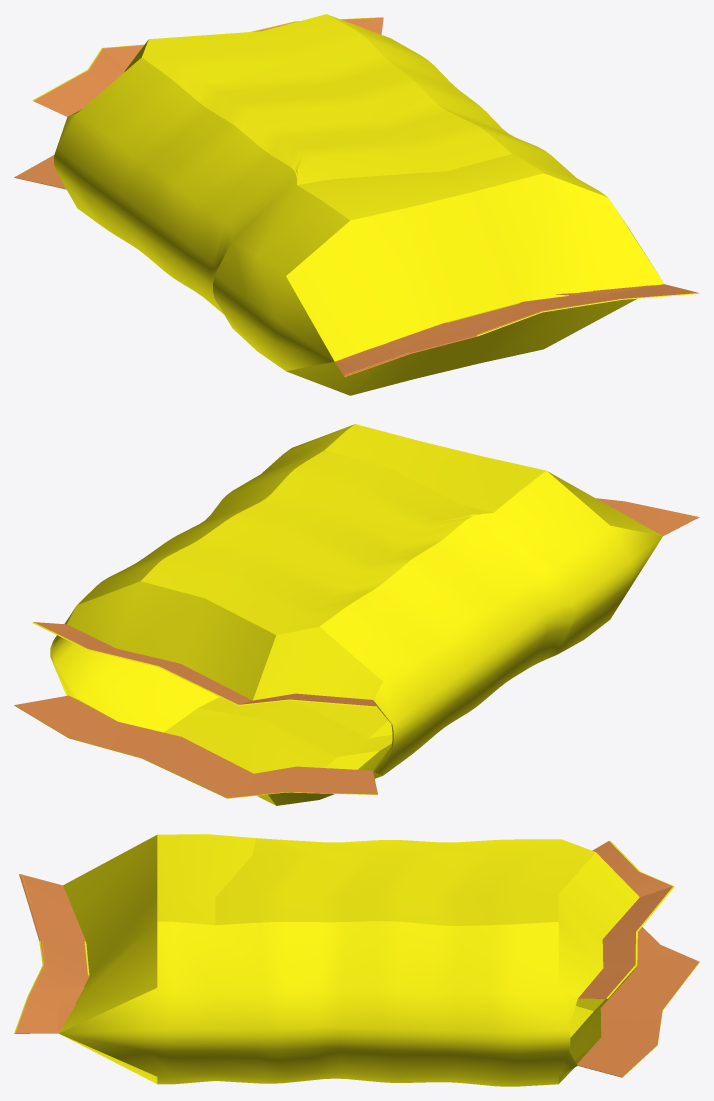
Rendered from  Saco de Salgadinho Aberto LOWPOLY.fbx.
3 views of the same model, one above another, from view 1: azimuth 30°, elevation 25°; view 2: azimuth 150°, elevation 25°; view 3: azimuth 270°, elevation 25° (orthographic). The views are drawn at different scales.
Visible parts, largest first — view 1: Cube.002; view 2: Cube.002; view 3: Cube.002.
Part boxes in pixels (left/top/right/bottom): Cube.002: left=14, top=14, right=699, bottom=395; Cube.002: left=14, top=424, right=699, bottom=805; Cube.002: left=14, top=834, right=699, bottom=1086.
Bounding box in the file's own units: 230 × 104 × 399.
